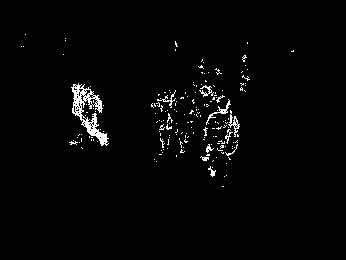person: (198, 96, 240, 179), (66, 82, 113, 147), (166, 87, 197, 150)
